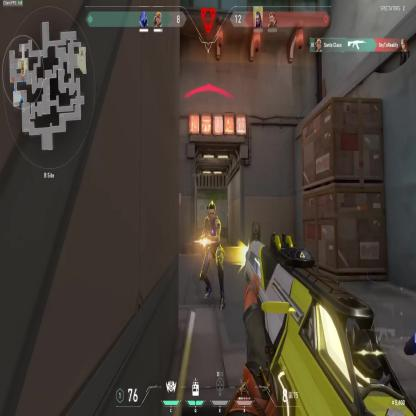enemy: (196, 198, 227, 312)
enemy_head: (208, 201, 216, 221)
